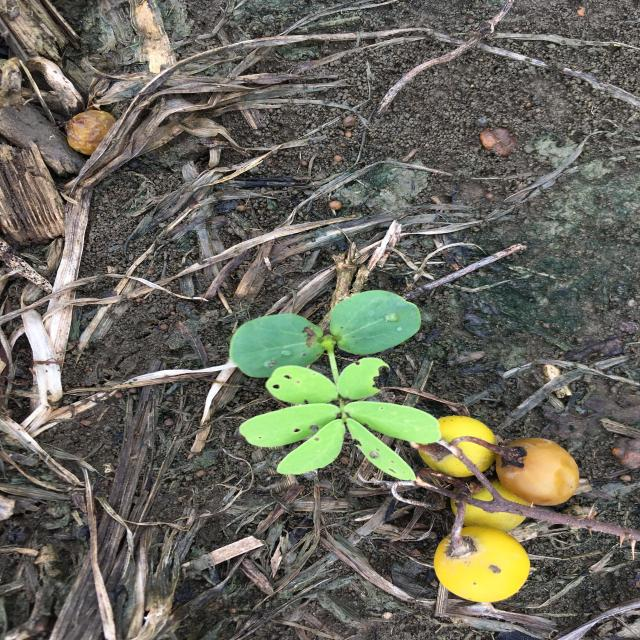Sicklepod: (230, 290, 442, 481)
